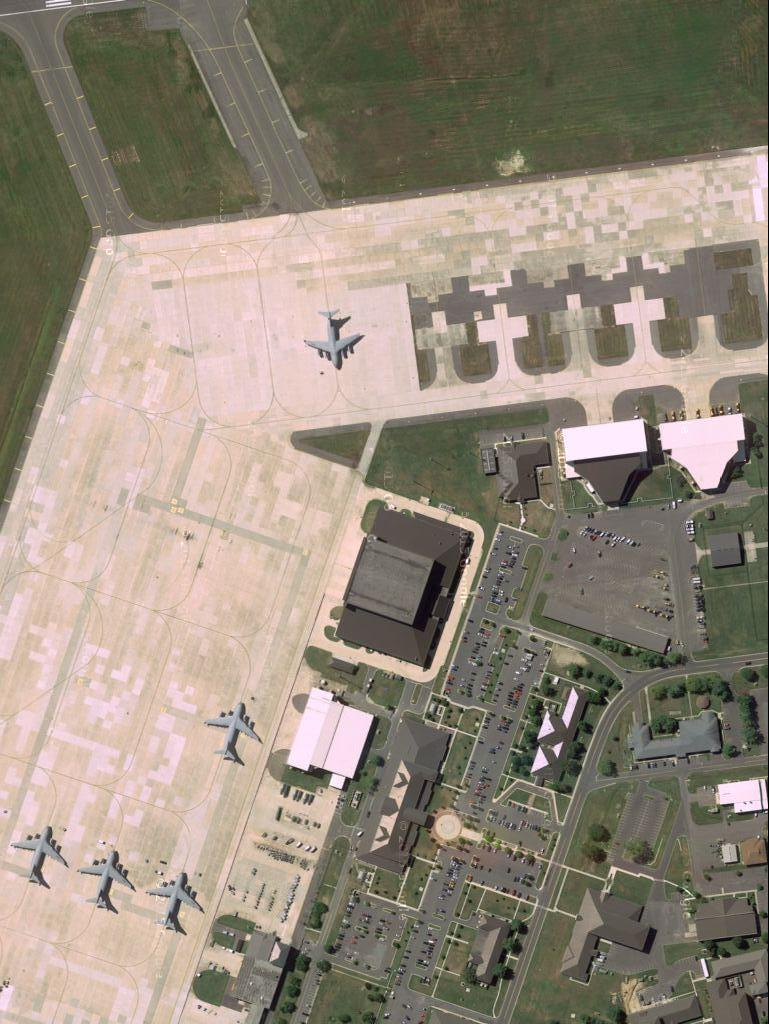C-17: (78, 842, 137, 917), (301, 303, 362, 375), (10, 823, 72, 892), (204, 700, 266, 768), (149, 869, 208, 936)
